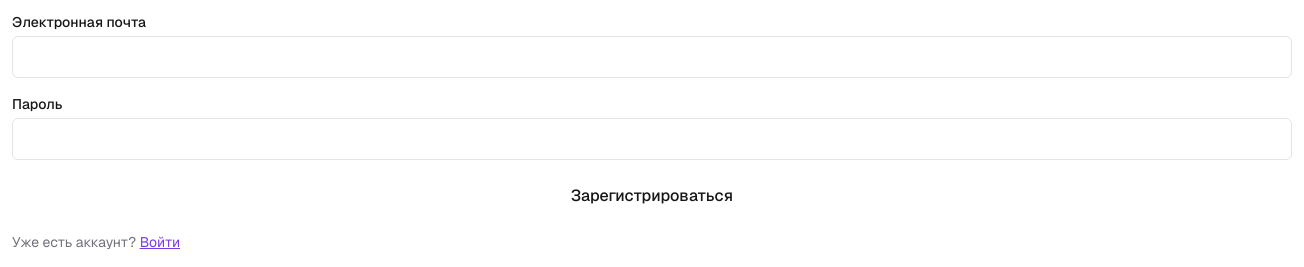
Test: SignUpForm › disables the submit button while the submission is pending
Type "reader@example.com" into the field labelled "Электронная почта" at [652, 57], box x1=12 y1=36 x2=1292 y2=78
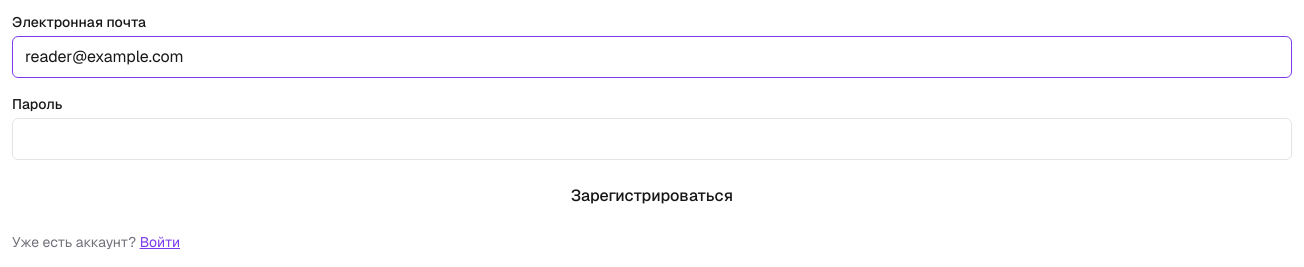
Type "secret-password-1" into the password field labelled "Пароль" at [652, 139], box x1=12 y1=118 x2=1292 y2=160
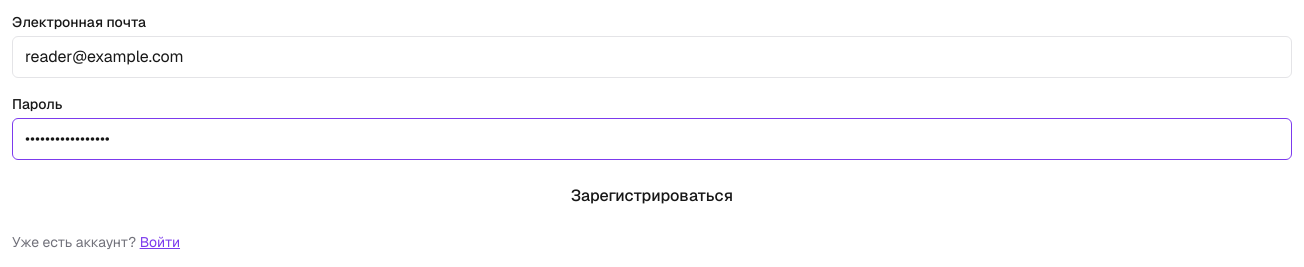
Click the button "Зарегистрироваться" at [652, 196], box x1=12 y1=176 x2=1292 y2=216
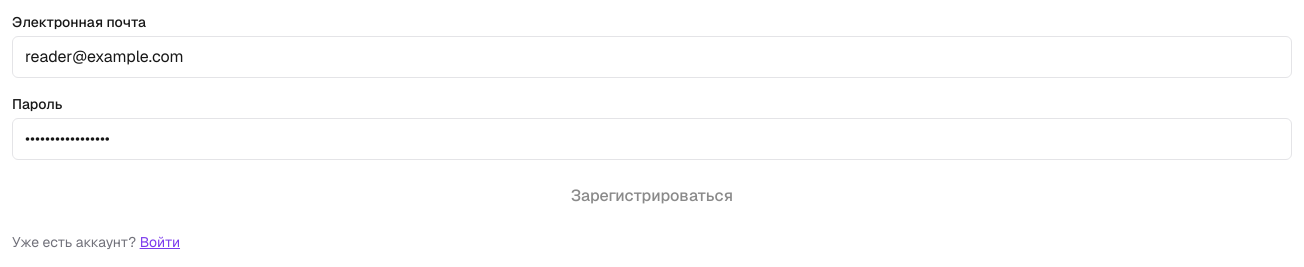
Result: the button "Зарегистрироваться" is disabled at x1=12 y1=176 x2=1292 y2=216
